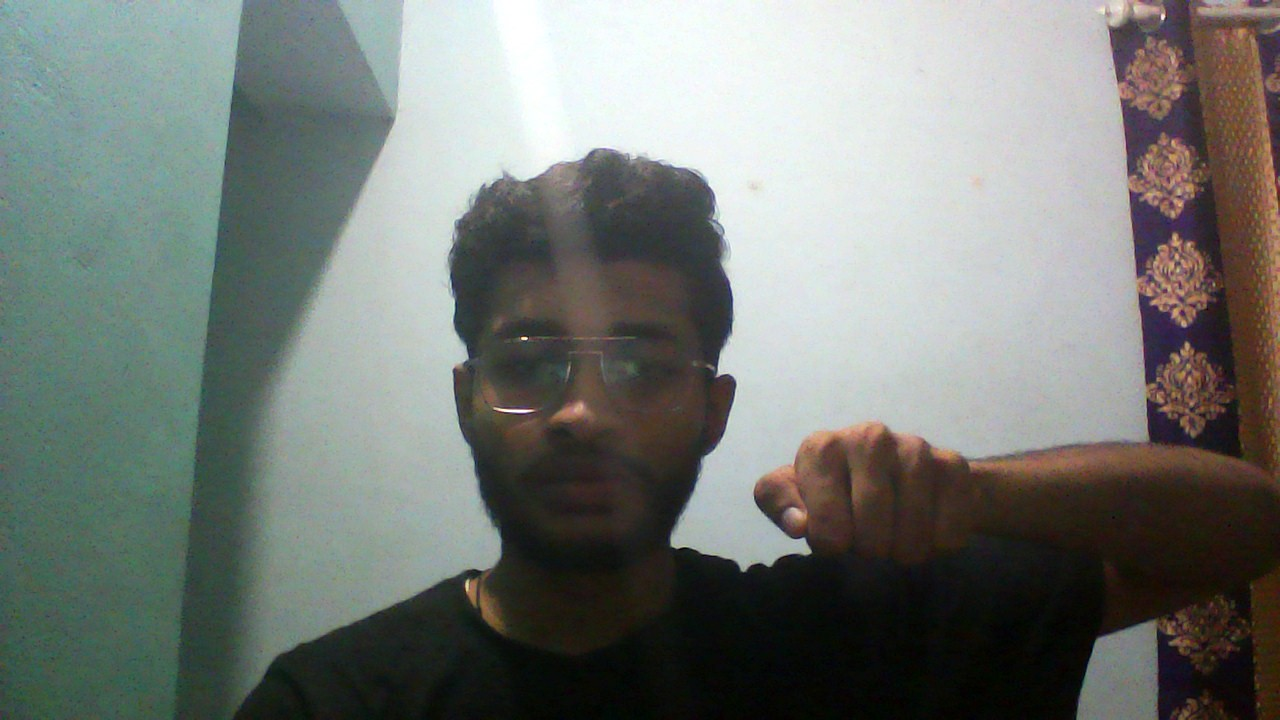Yes: (744, 406, 1029, 587)
